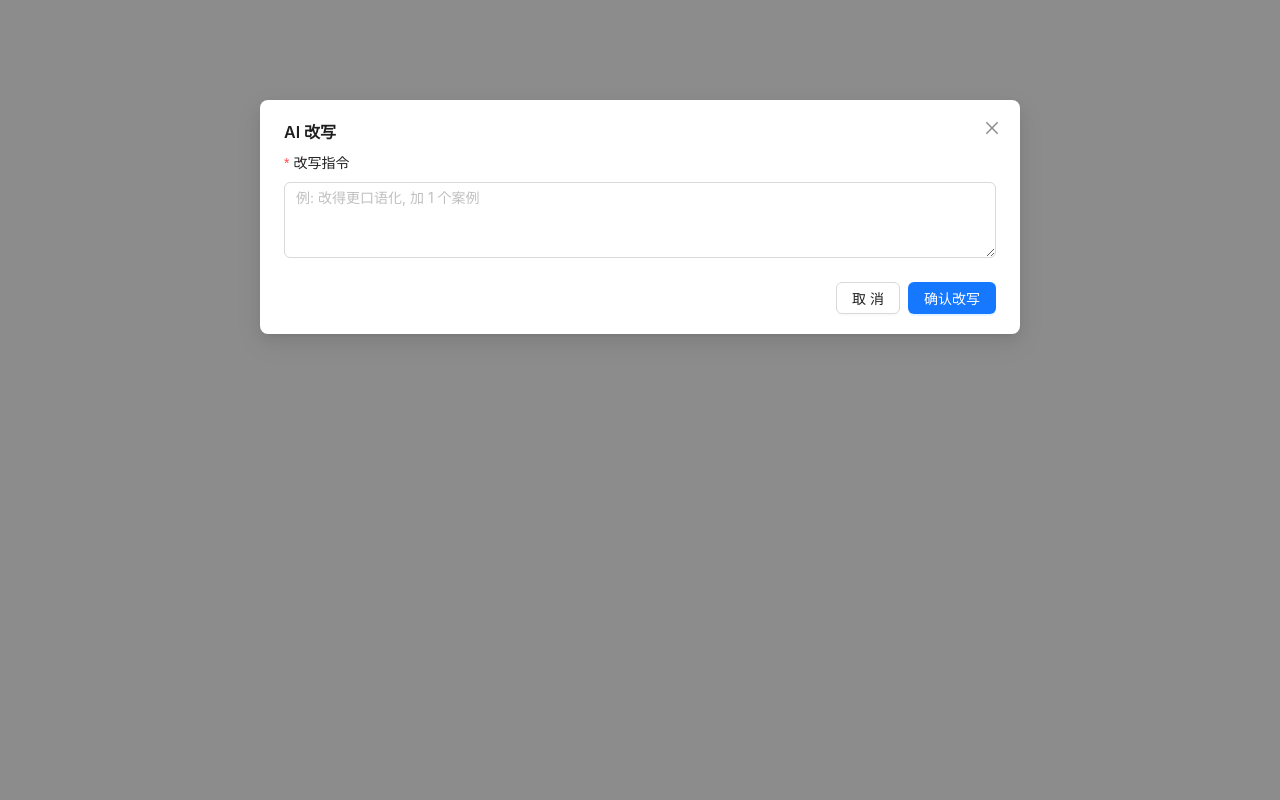
Test case: AIRewriteModal › shows diff comparison after result provided
The width and height of the screenshot is (1280, 800).
先填 instruction (form.required rule) 再点确认改写.
Step 1. Type "改得更口语化" into the text box with placeholder "例: 改得更口语化, 加 1 个案例" → (640, 220), box 284,182 -> 996,258
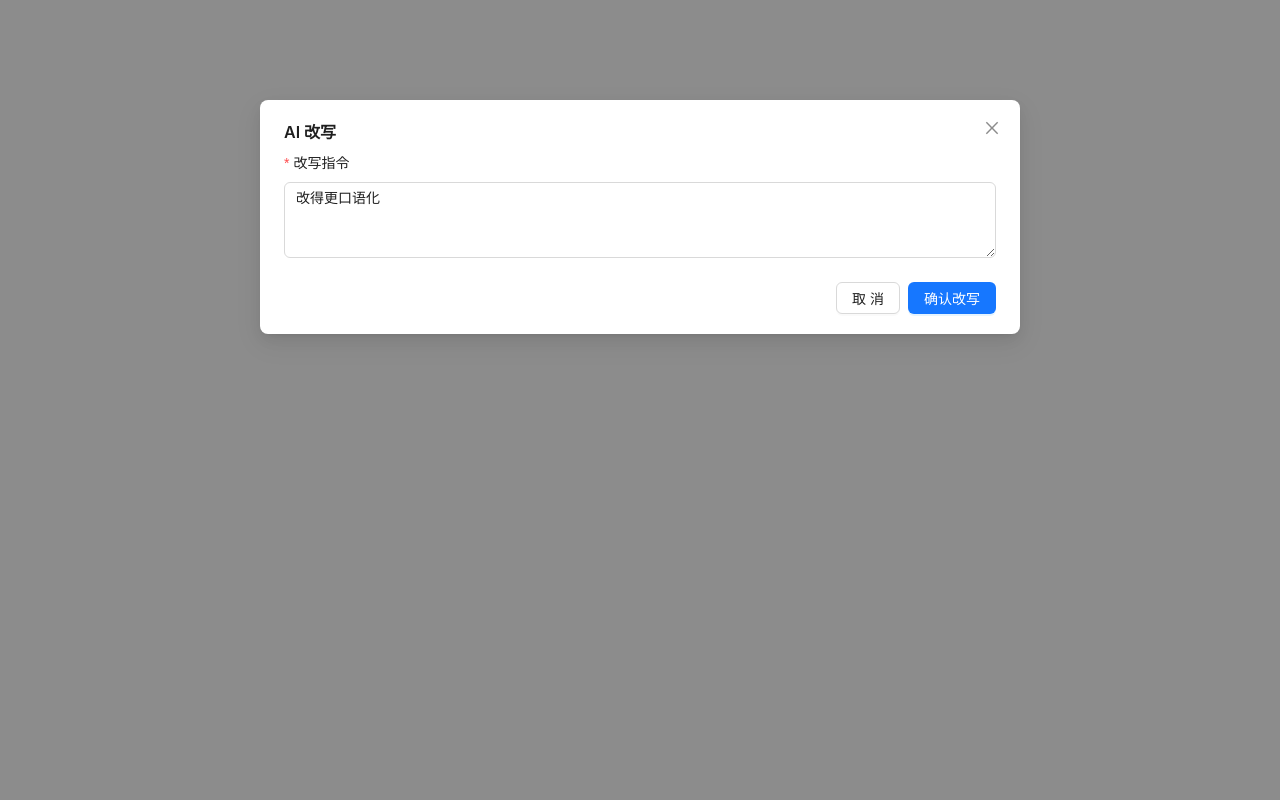
Step 2. Click the button "确认改写" → (952, 298), box 908,282 -> 996,314
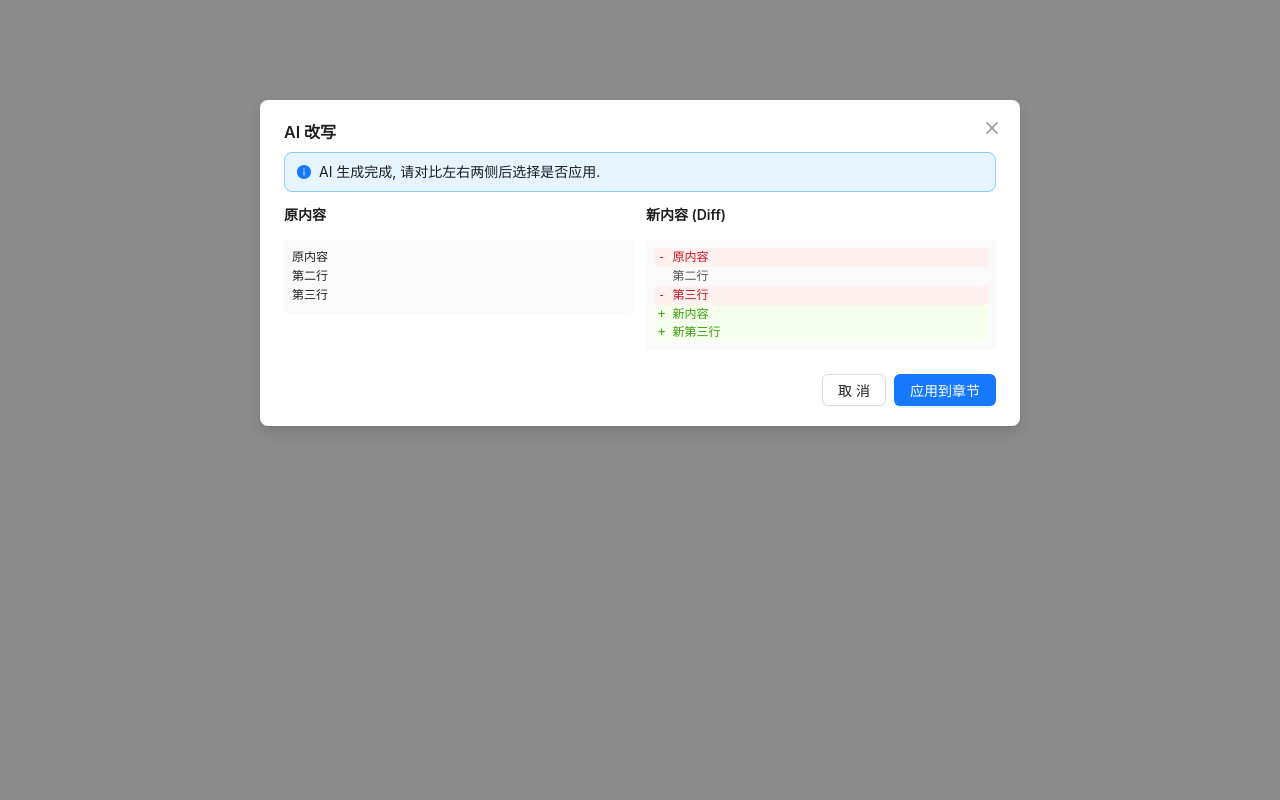
Check: the text "新内容 (Diff)" is shown, box 646,206 -> 726,223
Check: the text "原内容" is shown, box 284,206 -> 326,223
Check: the text "+ 新内容" is shown, box 654,304 -> 988,323
